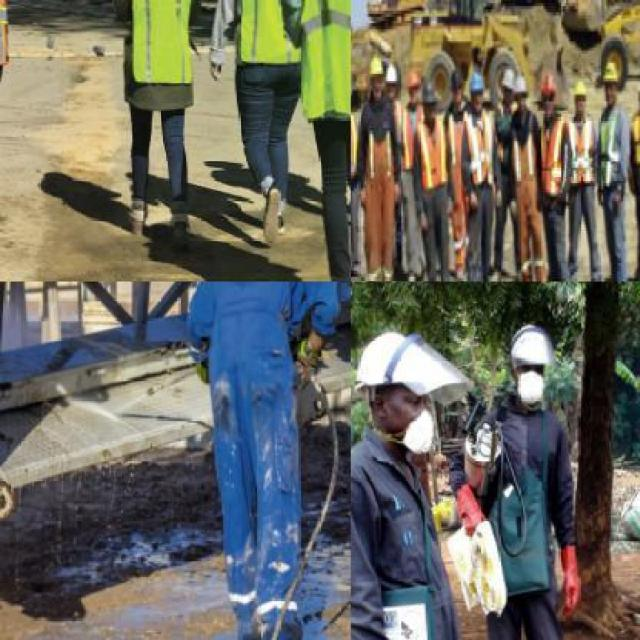vest: (208, 282, 337, 630), (294, 0, 349, 134), (126, 0, 197, 86), (231, 0, 303, 69), (462, 112, 502, 190), (412, 118, 450, 198), (566, 111, 600, 191), (594, 114, 628, 188), (539, 114, 566, 200), (628, 109, 638, 191), (351, 111, 362, 183)
